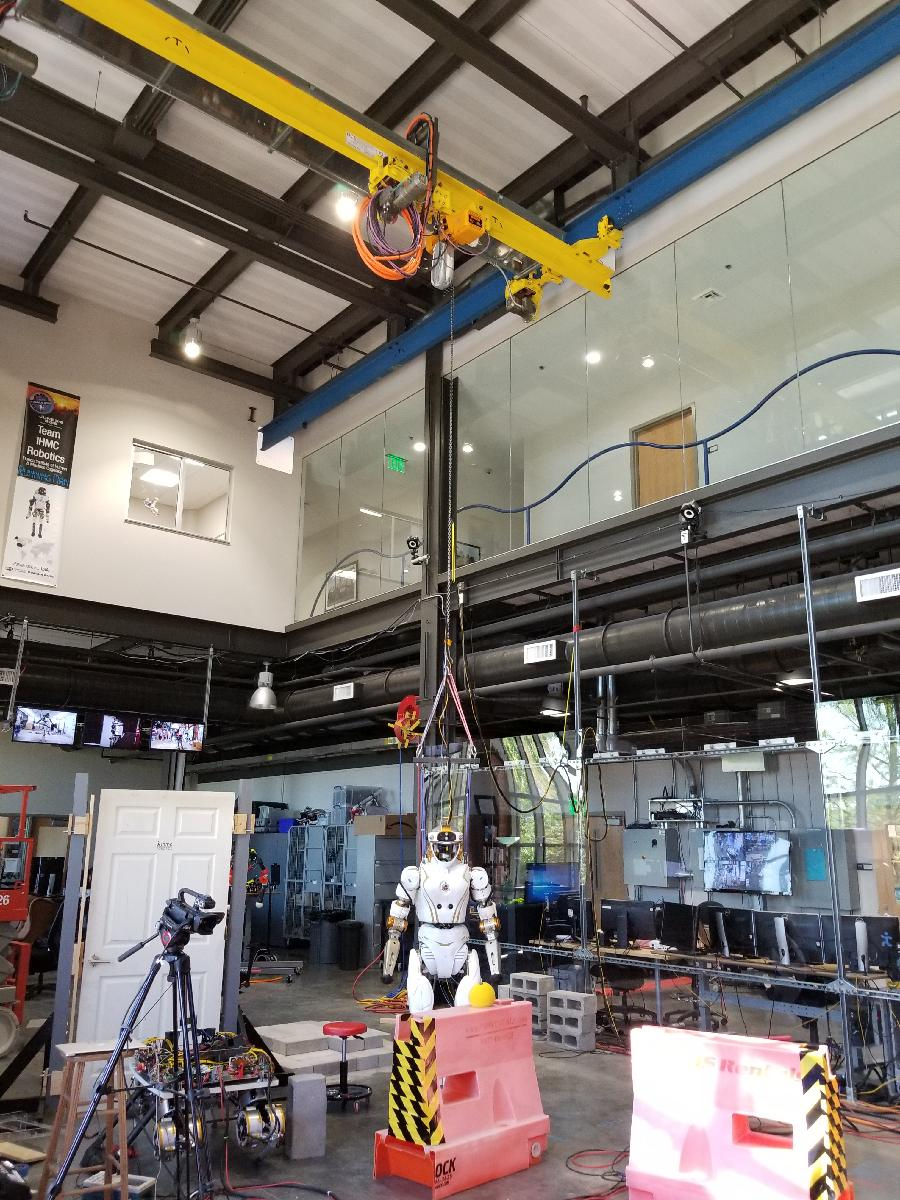door: (69, 786, 240, 1102)
doorHandle: (85, 955, 108, 972)
